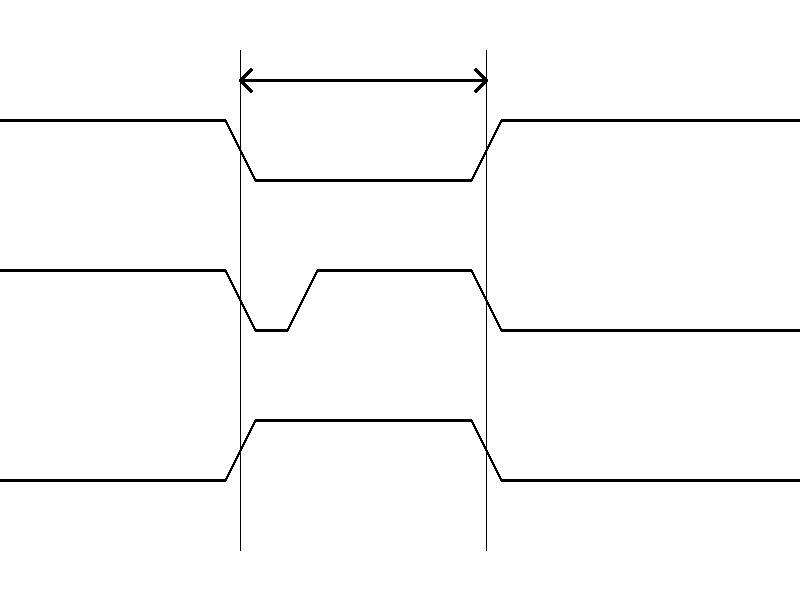double_arrow: (240, 65, 486, 95)
